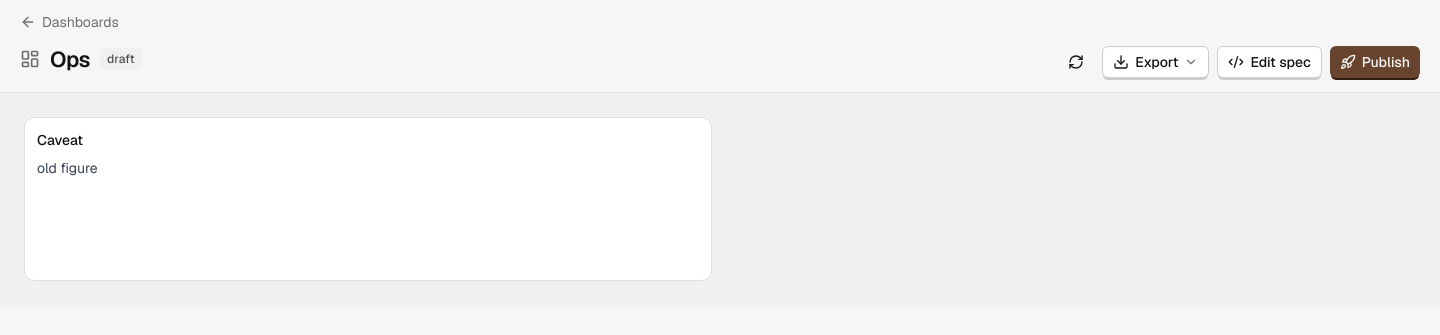
Test case: DashboardPage › when the tiles are fetched again › drops the old figures when the new ones are refused
Expected: the text "old figure" is shown, [37,159,98,177]
Click the button with class "lucide-refresh-cw" at (1076, 62), box [1058,46,1094,78]
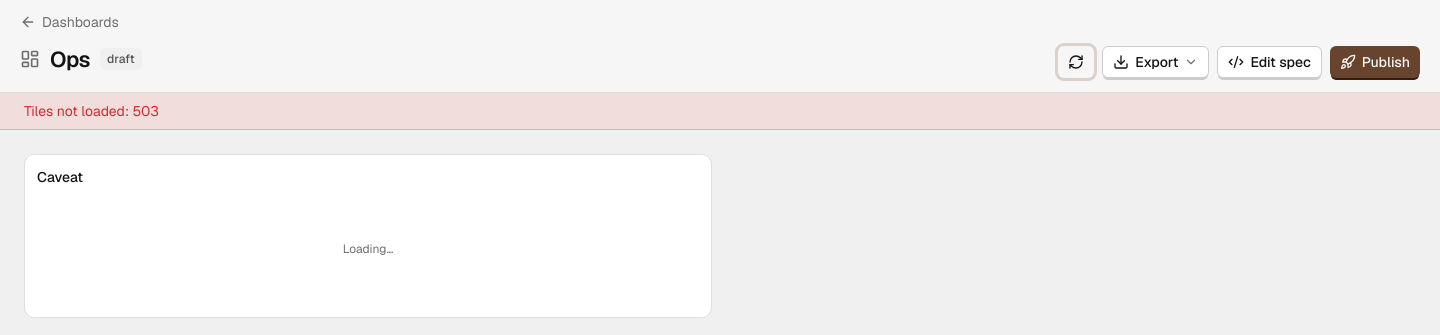
Expected: the message reads "Tiles not loaded: 503", [24,102,159,120]
Expected: the text "old figure" is gone
